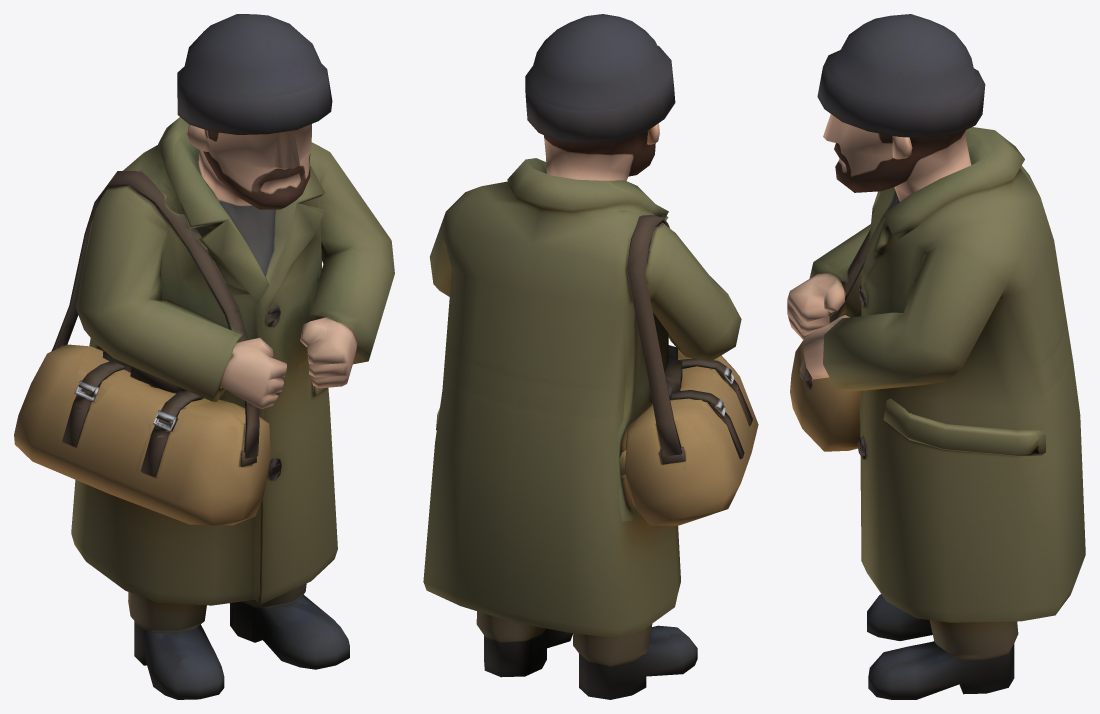
File: simon.glb
The picture shows the model from 3 angles, left to right: view 1: azimuth 30°, elevation 25°; view 2: azimuth 150°, elevation 25°; view 3: azimuth 270°, elevation 25°; orthographic projection. The views are drawn at different scales.
Parts seen in each view (by area): view 1: tripo_node_192cbe89-943d-4977-b972-6cfe9b58a777; view 2: tripo_node_192cbe89-943d-4977-b972-6cfe9b58a777; view 3: tripo_node_192cbe89-943d-4977-b972-6cfe9b58a777.
Part boxes in pixels (bbox=[...]): tripo_node_192cbe89-943d-4977-b972-6cfe9b58a777: bbox=[14, 14, 394, 699]; tripo_node_192cbe89-943d-4977-b972-6cfe9b58a777: bbox=[423, 14, 758, 699]; tripo_node_192cbe89-943d-4977-b972-6cfe9b58a777: bbox=[787, 14, 1085, 699].
Bounding box in the file's own units: 0.5449 × 0.998 × 0.4238.
1 material, 1 textured.
